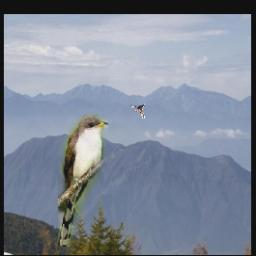Cuckoo: (58, 115, 108, 247)
Woodpecker: (129, 104, 145, 119)
